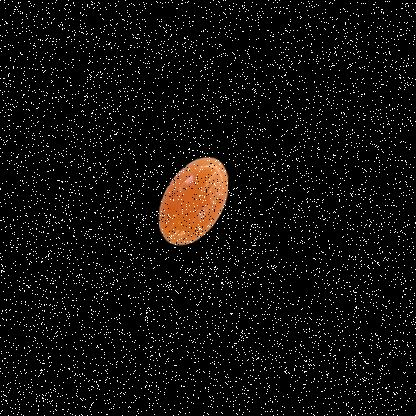welood: (152, 145, 243, 260)
